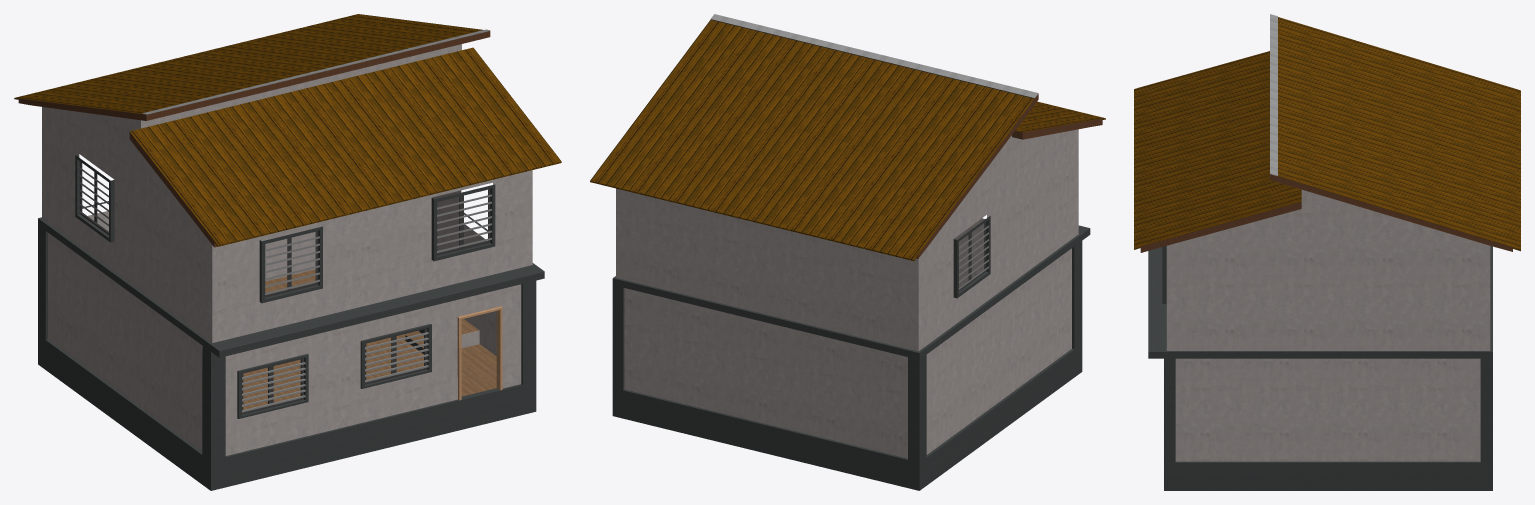
The model's file is bantaygabi-house-01.glb.
The picture shows the model from 3 angles, left to right: view 1: azimuth 30°, elevation 25°; view 2: azimuth 150°, elevation 25°; view 3: azimuth 270°, elevation 25°; orthographic projection. The views are drawn at different scales.
Visible parts, largest first — view 1: House01_LOD0; view 2: House01_LOD0; view 3: House01_LOD0.
Part boxes in pixels (x1=…): House01_LOD0: x1=14, y1=14, x2=561, y2=490; House01_LOD0: x1=590, y1=14, x2=1105, y2=490; House01_LOD0: x1=1134, y1=14, x2=1520, y2=490.
Size of the model in its own units: 8.97 by 8.43 by 9.19.
11 materials, 11 textured.
